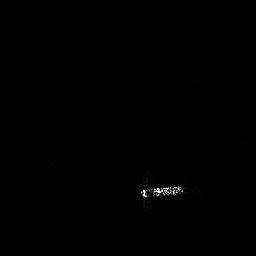ship: (140, 184, 182, 199)
